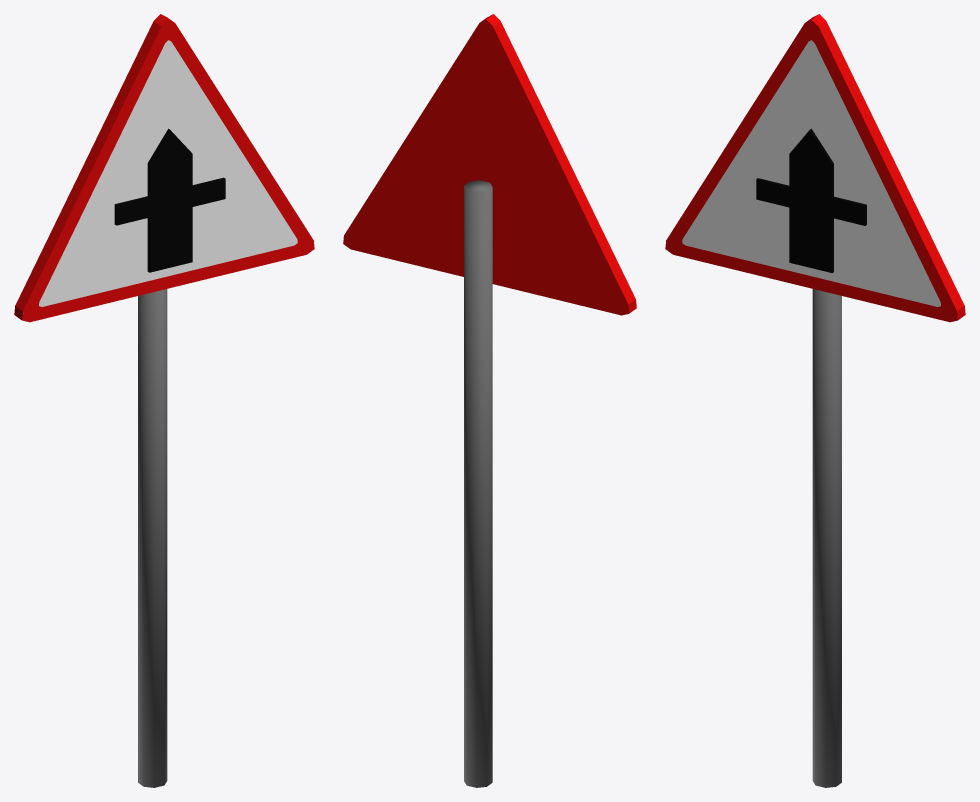
File: Prop_StreetSign_Major.fbx
3 renders of one model, left to right at view 1: azimuth 30°, elevation 25°; view 2: azimuth 150°, elevation 25°; view 3: azimuth 330°, elevation 25°, orthographic. The views are drawn at different scales.
Visible parts, largest first — view 1: Prop_StreetSign_Major; view 2: Prop_StreetSign_Major; view 3: Prop_StreetSign_Major.
Part boxes in pixels (x1,y1,x2,y2): Prop_StreetSign_Major: (14,14,314,787); Prop_StreetSign_Major: (343,14,636,787); Prop_StreetSign_Major: (665,14,965,787).
Size of the model in its own units: 166 by 420 by 23.95.
